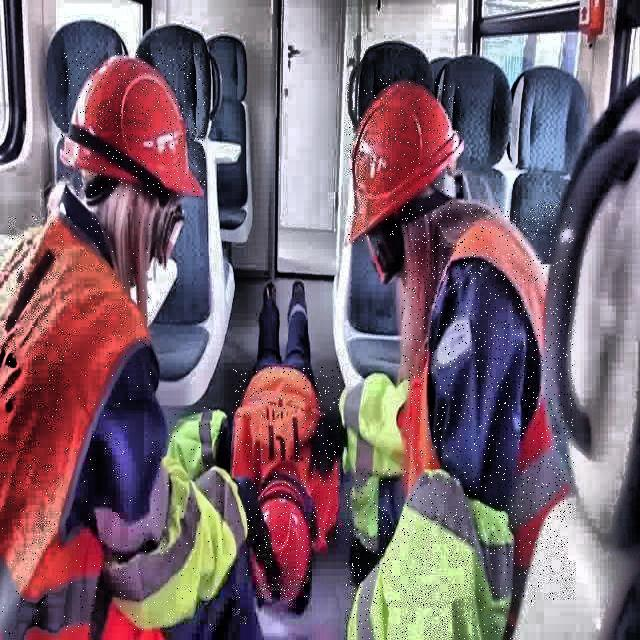safety_helmet: (61, 50, 205, 197), (348, 76, 462, 242), (256, 476, 310, 602)
safety_jacket: (402, 205, 574, 602), (2, 216, 153, 636), (346, 470, 514, 640), (104, 467, 248, 627), (232, 367, 340, 546), (342, 366, 406, 508), (168, 407, 224, 472)
